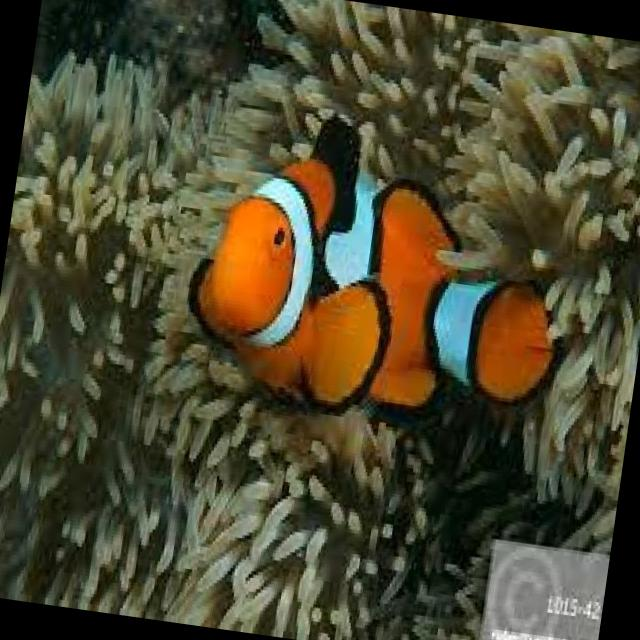ClownFish: (172, 100, 578, 438)
